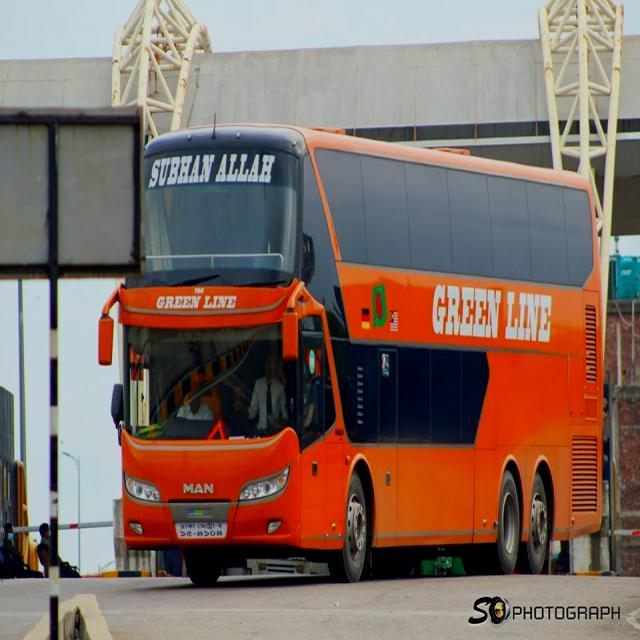bus: (97, 123, 605, 584)
